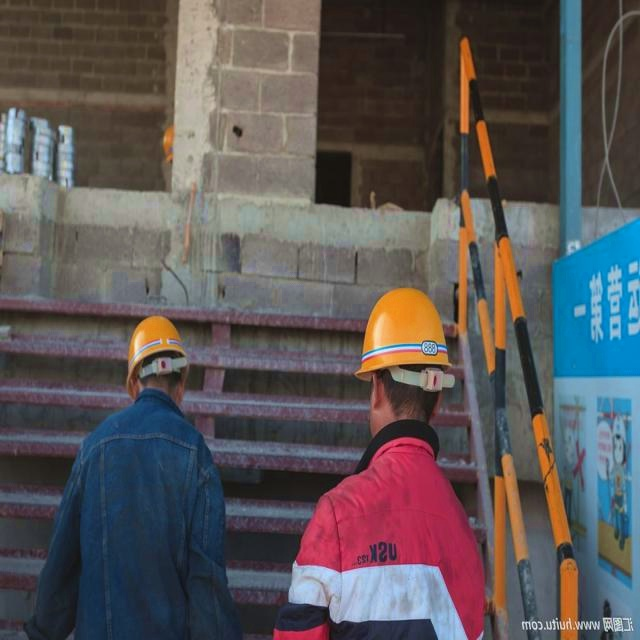Con_Casco: (355, 287, 449, 434), (124, 314, 189, 398)
Sin_Chaleco: (72, 406, 207, 640)
